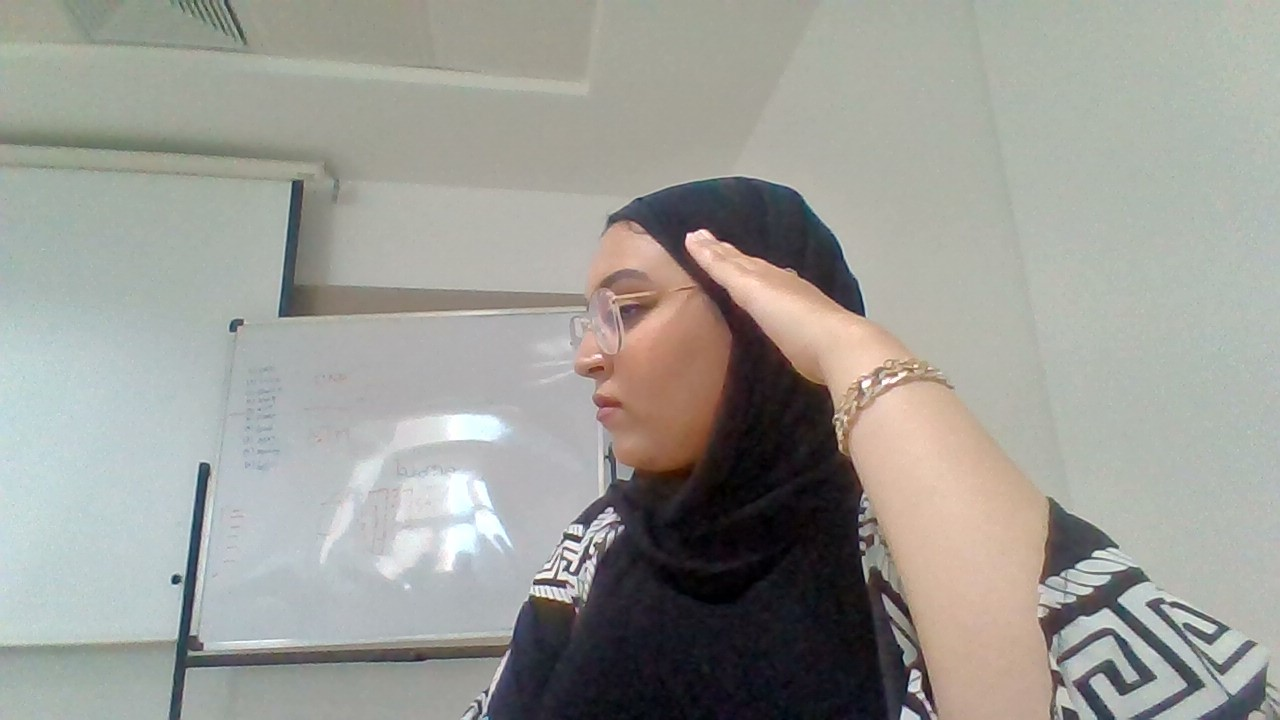hello: (677, 218, 899, 394)
